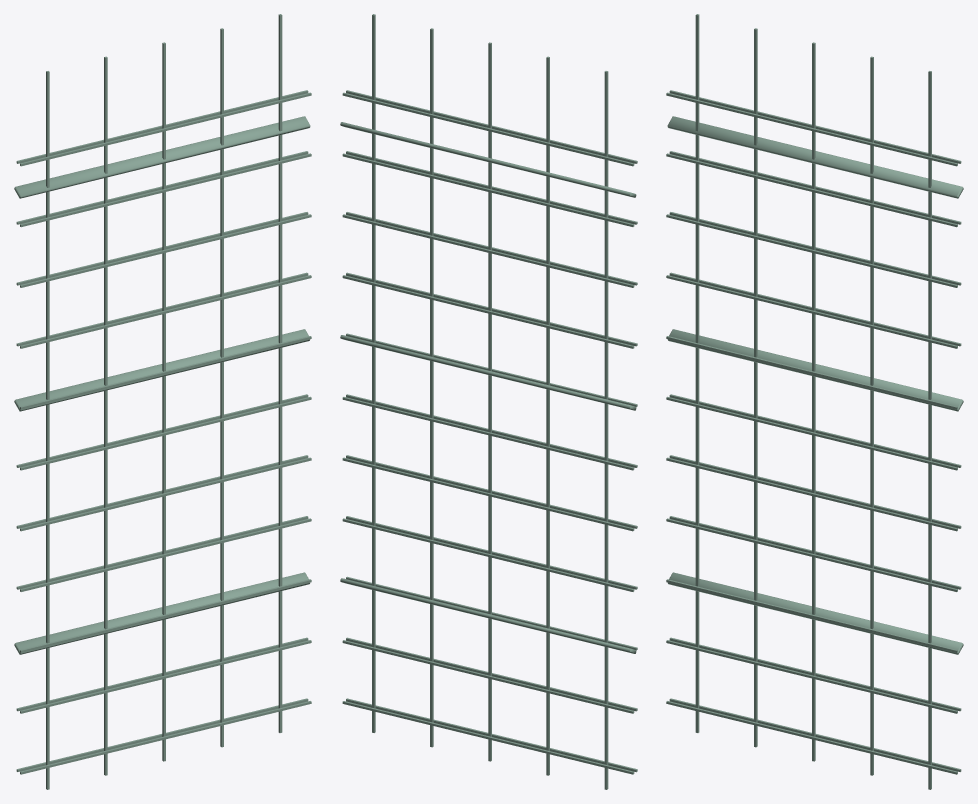
The model's file is fence_welded_panel.glb.
3 renders of one model, left to right at view 1: azimuth 30°, elevation 25°; view 2: azimuth 150°, elevation 25°; view 3: azimuth 330°, elevation 25°, orthographic.
Visible parts, largest first — view 1: Body; view 2: Body; view 3: Body.
Part boxes in pixels (x1=…): Body: x1=14, y1=14, x2=311, y2=789; Body: x1=340, y1=14, x2=637, y2=789; Body: x1=666, y1=14, x2=963, y2=789.
Bounding box in the file's own units: 1 × 2.36 × 0.0426.
